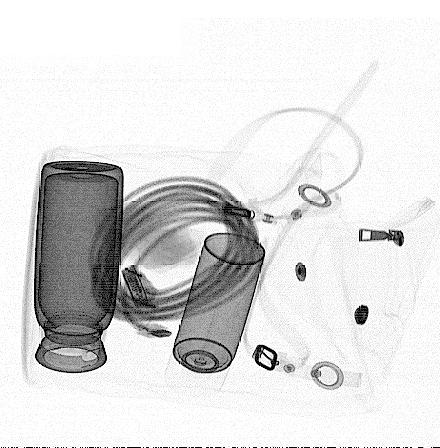Sprayer: (163, 230, 268, 400)
